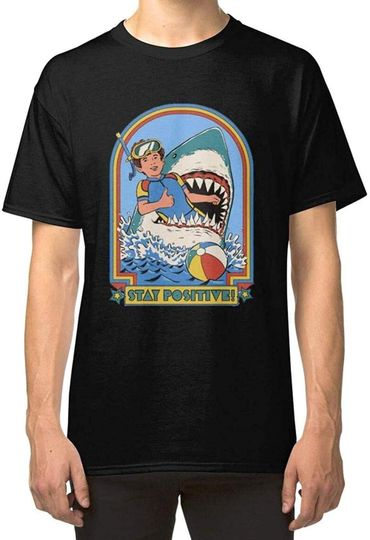design: (106, 100, 256, 309)
